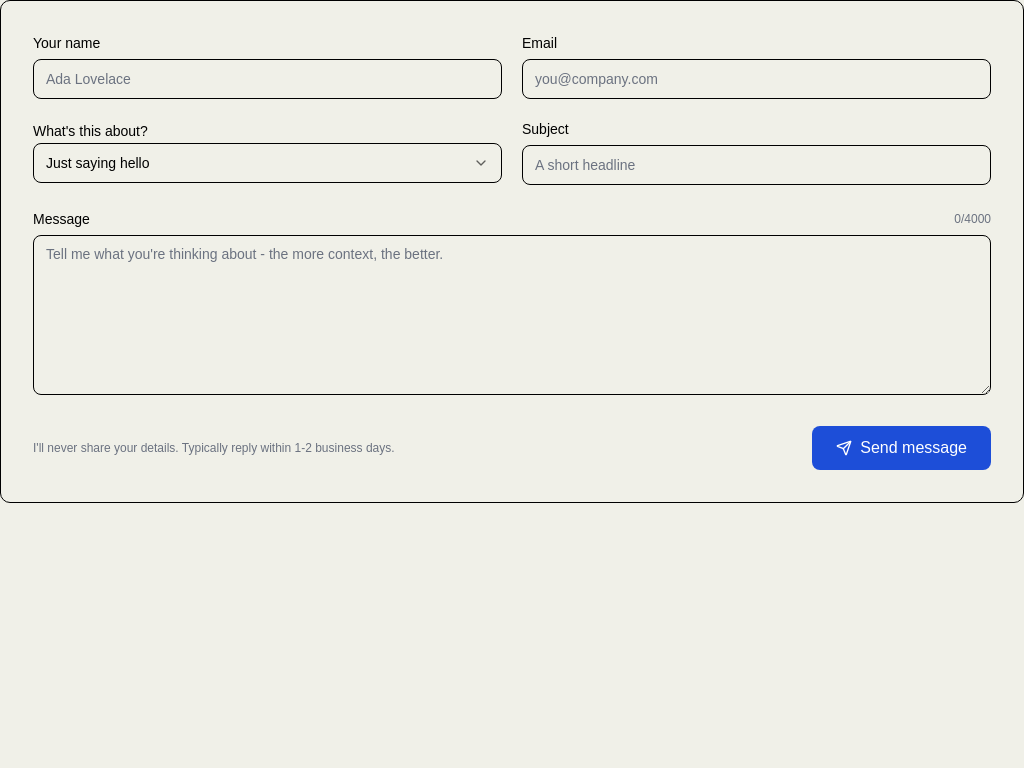
Test: ContactForm › validates email format inline
Type "nope" into the field labelled "Email" at (756, 79), box [522,59,991,99]
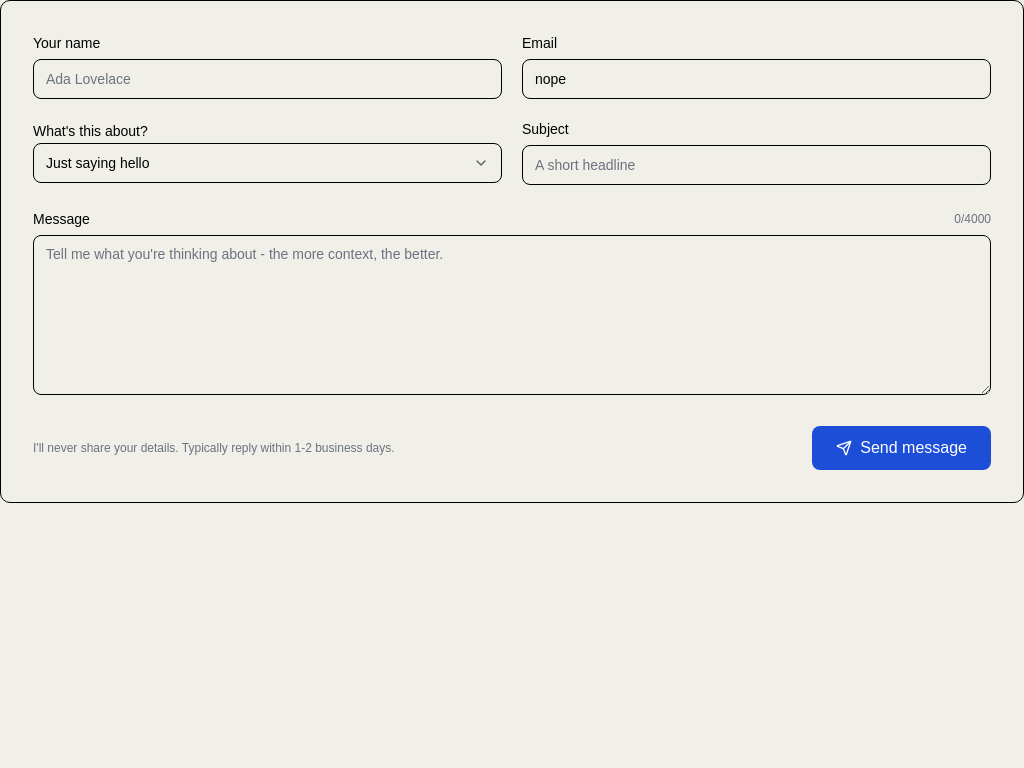
Leave the field labelled "Email", box [522,59,991,99]
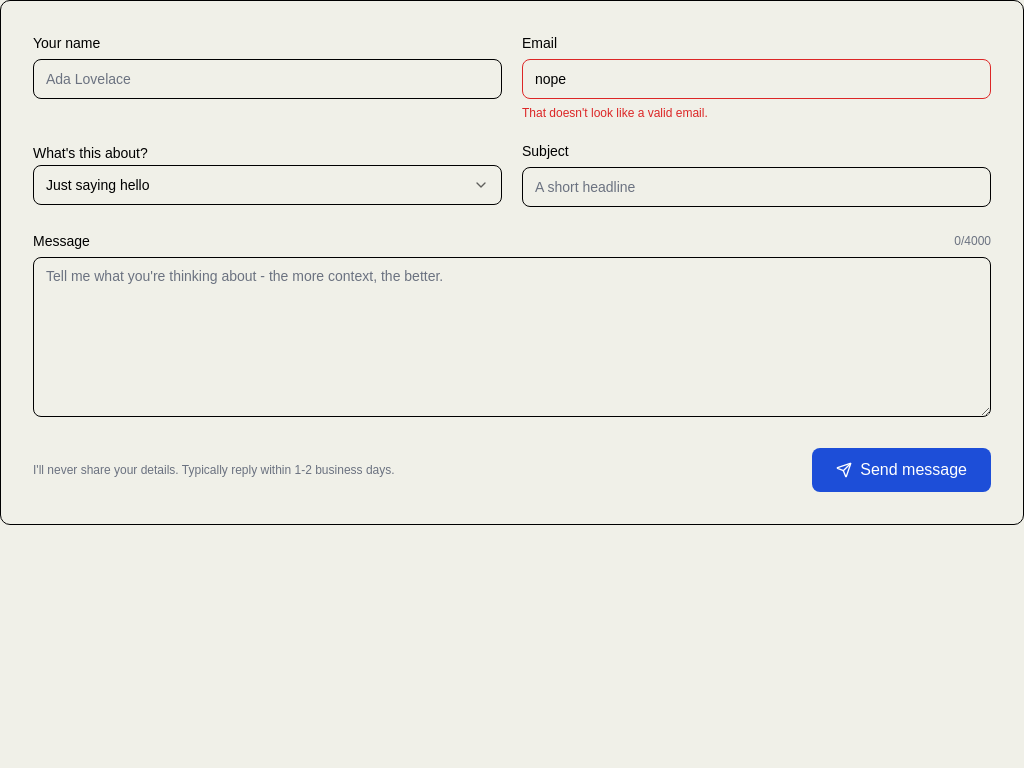
Expected: the text "That doesn't look like a valid email." is shown, [522,106,708,120]
